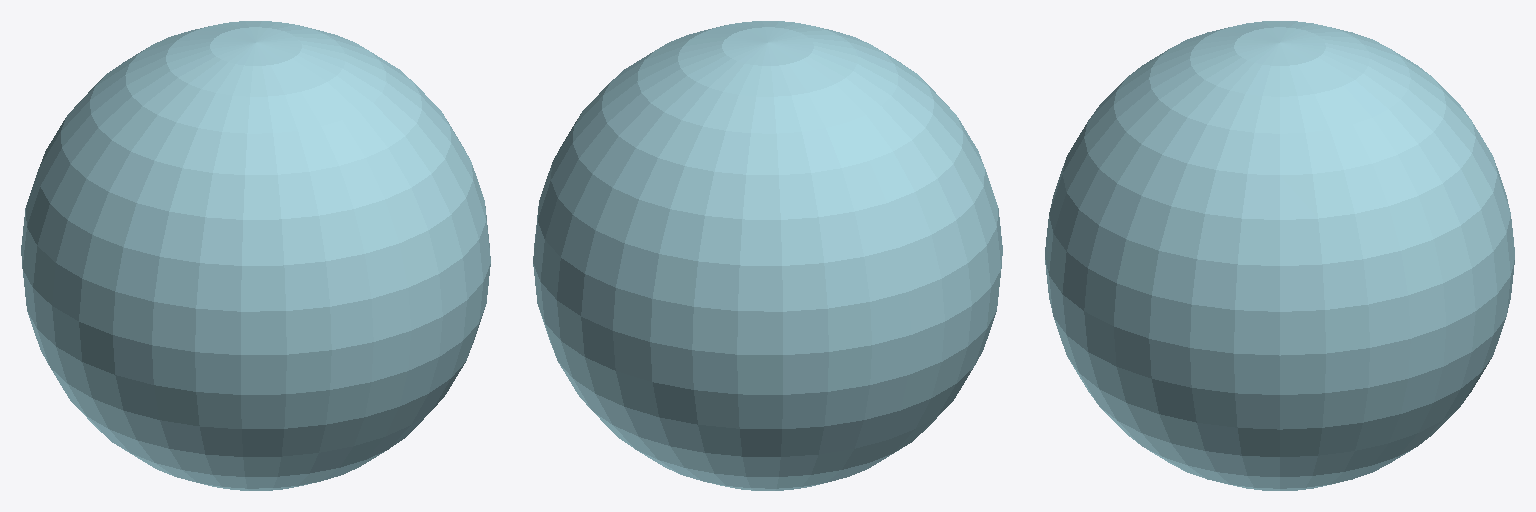
File: gem_type_6.obj
The picture shows the model from 3 angles: view 1: azimuth 30°, elevation 25°; view 2: azimuth 150°, elevation 25°; view 3: azimuth 270°, elevation 25°; orthographic projection.
Visible parts, largest first — view 1: gem_type_6; view 2: gem_type_6; view 3: gem_type_6.
Part boxes in pixels (x1,y1,x2,y2): gem_type_6: (21,21,490,490); gem_type_6: (533,21,1002,490); gem_type_6: (1045,21,1514,490).
Bounding box in the file's own units: 1 × 1 × 1.